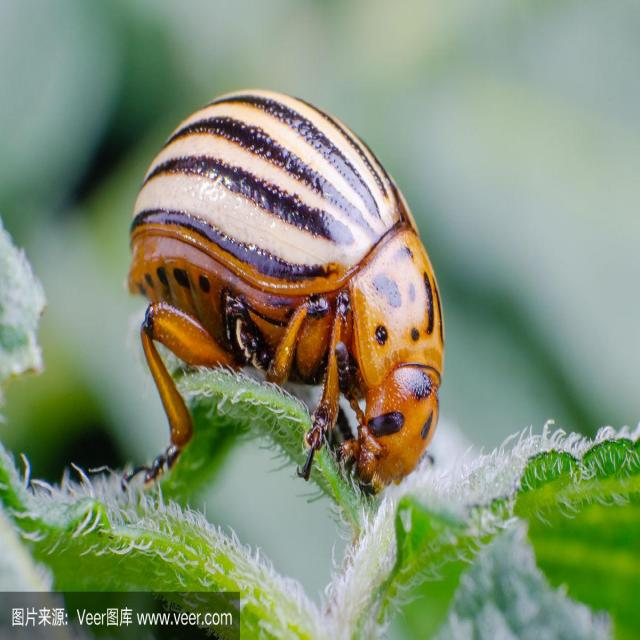ShuCaiHuaBanChong-Grown-: (121, 64, 474, 522)
